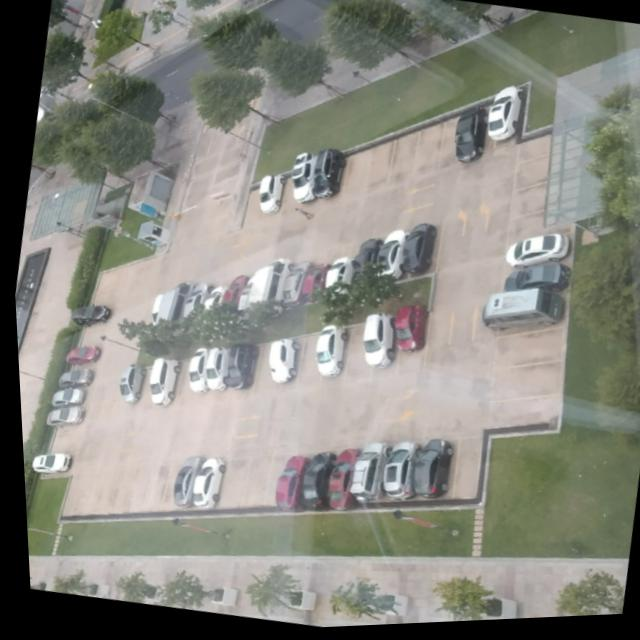car: (478, 292, 559, 334), (344, 444, 387, 505), (407, 442, 448, 501), (292, 454, 331, 513), (504, 237, 566, 272), (377, 444, 414, 502), (486, 89, 523, 143), (500, 266, 566, 296), (324, 450, 355, 512), (269, 457, 303, 513), (246, 259, 289, 303), (358, 315, 391, 371), (452, 110, 484, 166), (398, 226, 433, 276), (311, 327, 344, 379), (308, 150, 343, 199), (373, 232, 407, 281), (168, 456, 199, 509), (187, 458, 219, 509), (390, 308, 424, 355), (154, 282, 194, 321), (221, 344, 253, 390), (145, 358, 175, 406), (278, 263, 308, 309), (264, 340, 295, 384), (289, 154, 316, 204), (199, 347, 226, 391), (297, 266, 327, 304), (349, 241, 379, 277), (321, 258, 350, 295), (114, 363, 140, 404), (180, 283, 210, 318), (257, 176, 283, 216), (184, 348, 205, 395), (67, 305, 105, 326), (219, 274, 245, 304), (27, 452, 65, 472), (42, 406, 79, 426), (46, 387, 79, 407), (54, 368, 87, 388), (61, 345, 94, 365), (202, 287, 222, 310), (235, 281, 249, 312), (147, 294, 158, 325)
freeslot: (501, 175, 581, 225), (507, 145, 583, 197), (488, 328, 563, 376), (482, 362, 561, 407), (503, 204, 574, 250), (512, 125, 583, 171), (480, 397, 556, 432), (443, 438, 480, 504), (336, 147, 374, 202), (382, 131, 419, 187), (256, 453, 290, 510), (409, 124, 445, 177), (236, 454, 270, 510), (361, 139, 395, 194), (335, 325, 367, 382), (214, 457, 248, 510), (289, 334, 318, 395), (117, 463, 150, 513), (246, 344, 274, 399), (136, 464, 168, 512), (101, 466, 132, 515), (53, 470, 83, 515), (71, 469, 100, 515), (87, 468, 116, 514), (435, 117, 458, 171), (153, 463, 177, 511), (90, 265, 128, 294), (45, 427, 85, 454), (276, 172, 296, 221), (86, 284, 123, 309), (136, 365, 156, 409), (172, 358, 192, 400), (240, 187, 260, 226), (75, 324, 108, 346)
